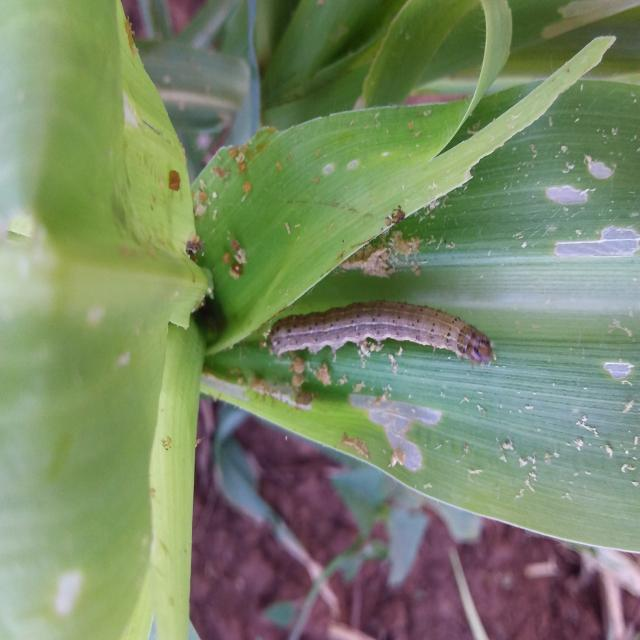yellow-stem-borer-larva: (239, 275, 510, 383)
